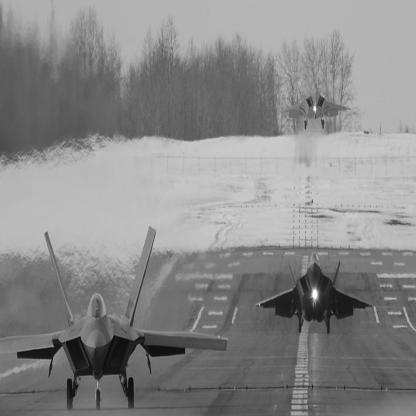F22: (1, 226, 229, 411), (256, 252, 374, 335), (279, 82, 352, 131)
